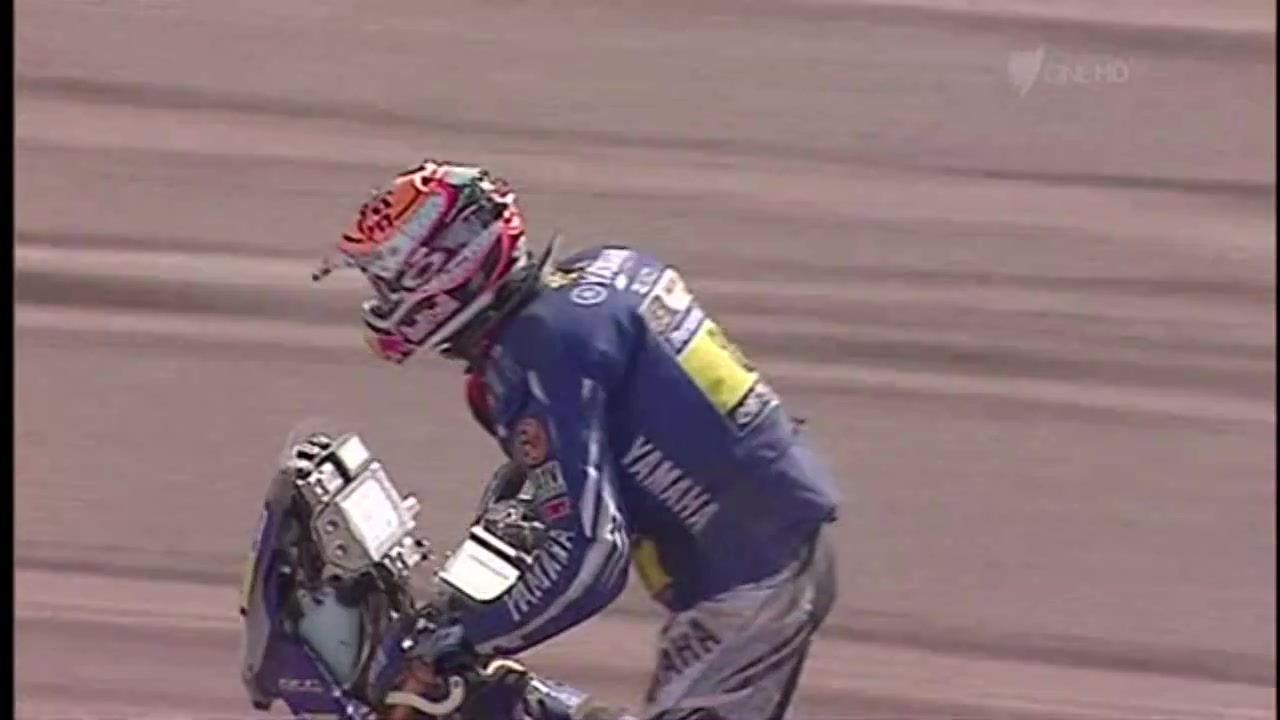motorbike: (239, 427, 634, 720)
